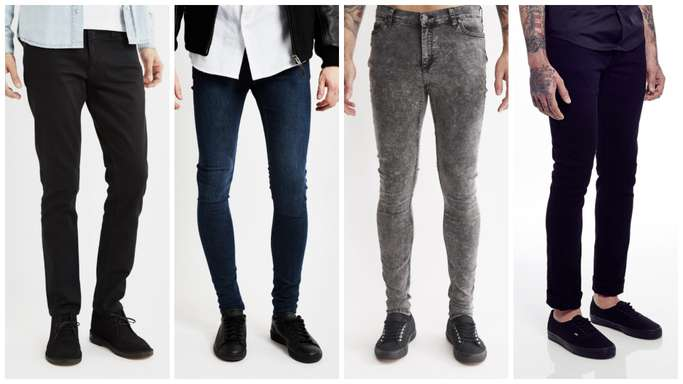Jeans: (16, 28, 151, 320), (365, 6, 489, 318), (185, 62, 316, 325), (545, 36, 651, 313)
